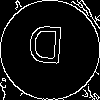D: (25, 25, 65, 74)
